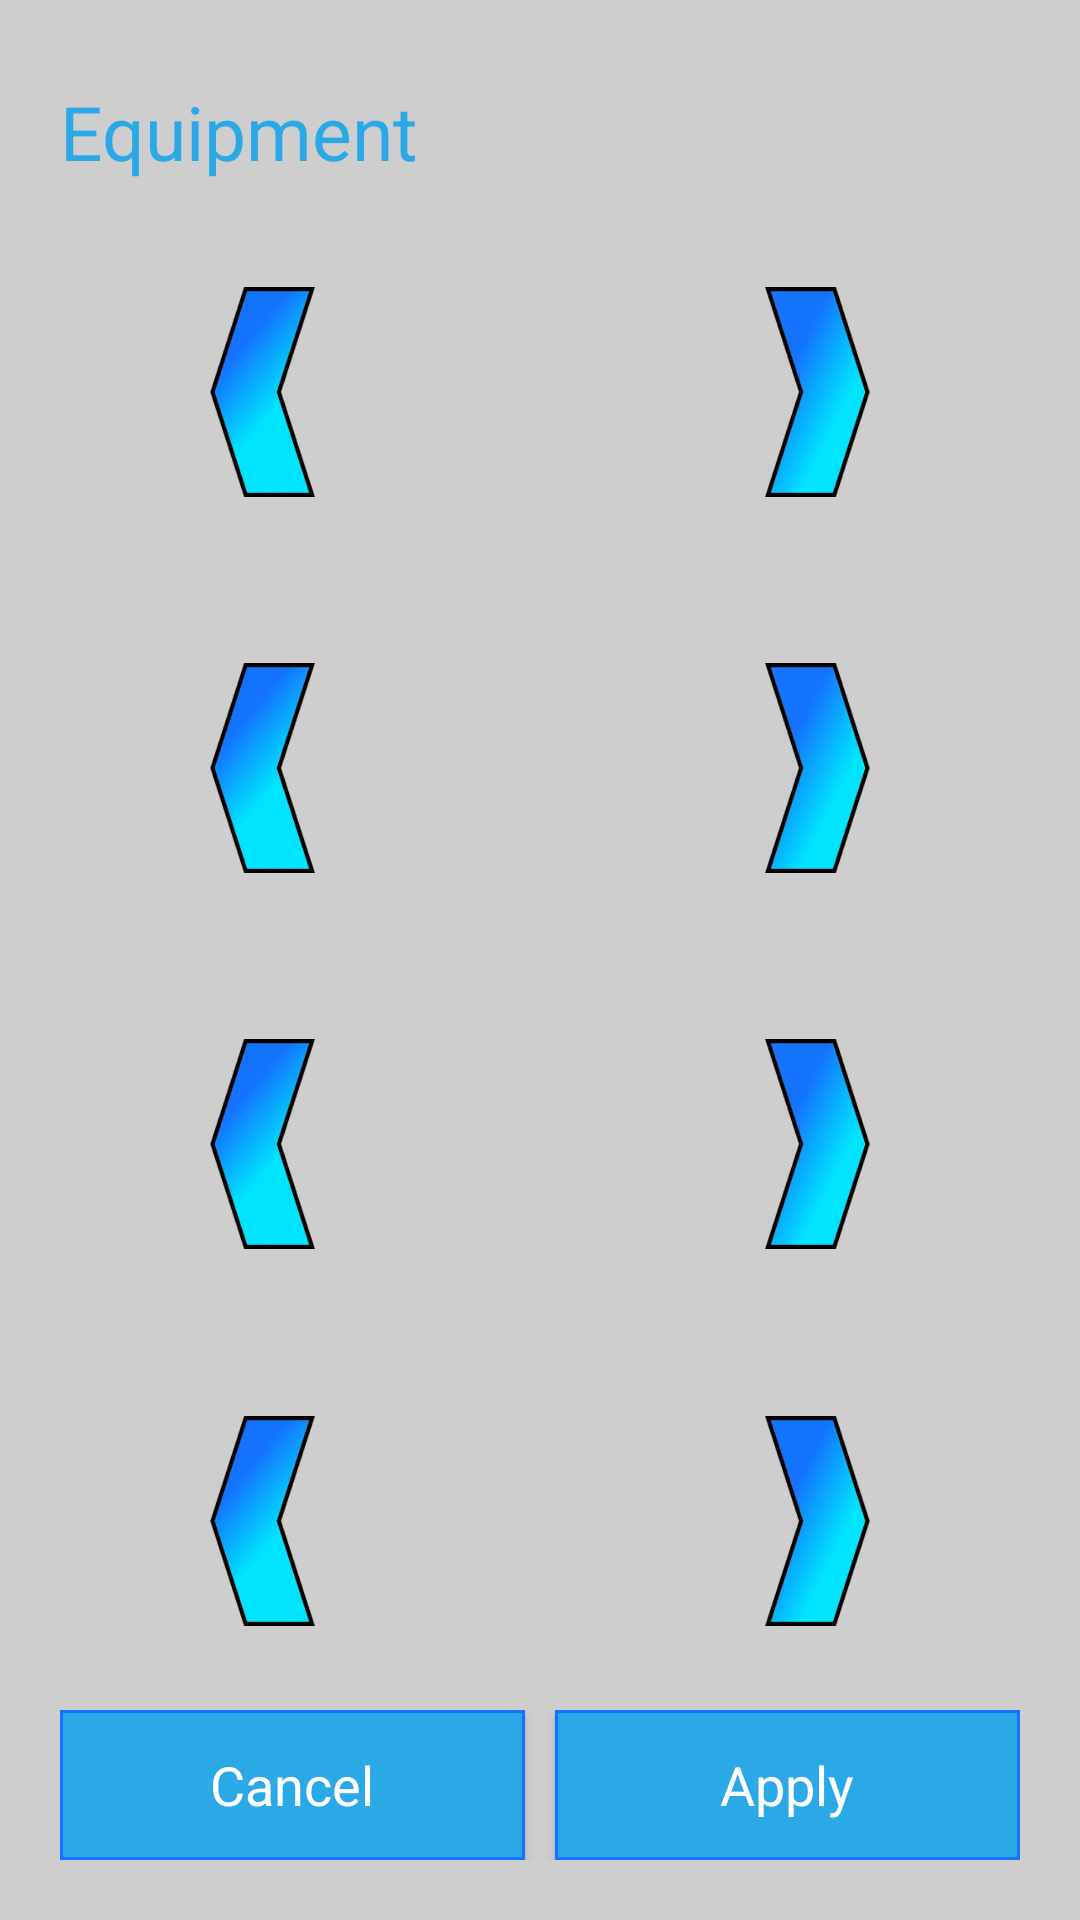

Icons on this 1080 x 1920 Android screen, each with its box as bbox=[x1, y1, x2, y2]:
next: bbox=[765, 287, 870, 497], bbox=[765, 663, 870, 873], bbox=[765, 1039, 870, 1249], bbox=[765, 1416, 870, 1626]
previous: bbox=[210, 287, 315, 497], bbox=[210, 663, 315, 873], bbox=[210, 1039, 315, 1249], bbox=[210, 1416, 315, 1626]
